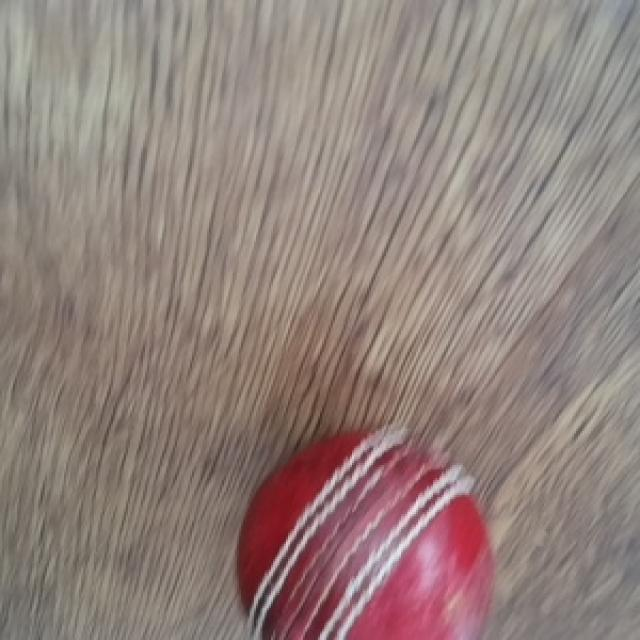ball: (235, 422, 497, 640)
